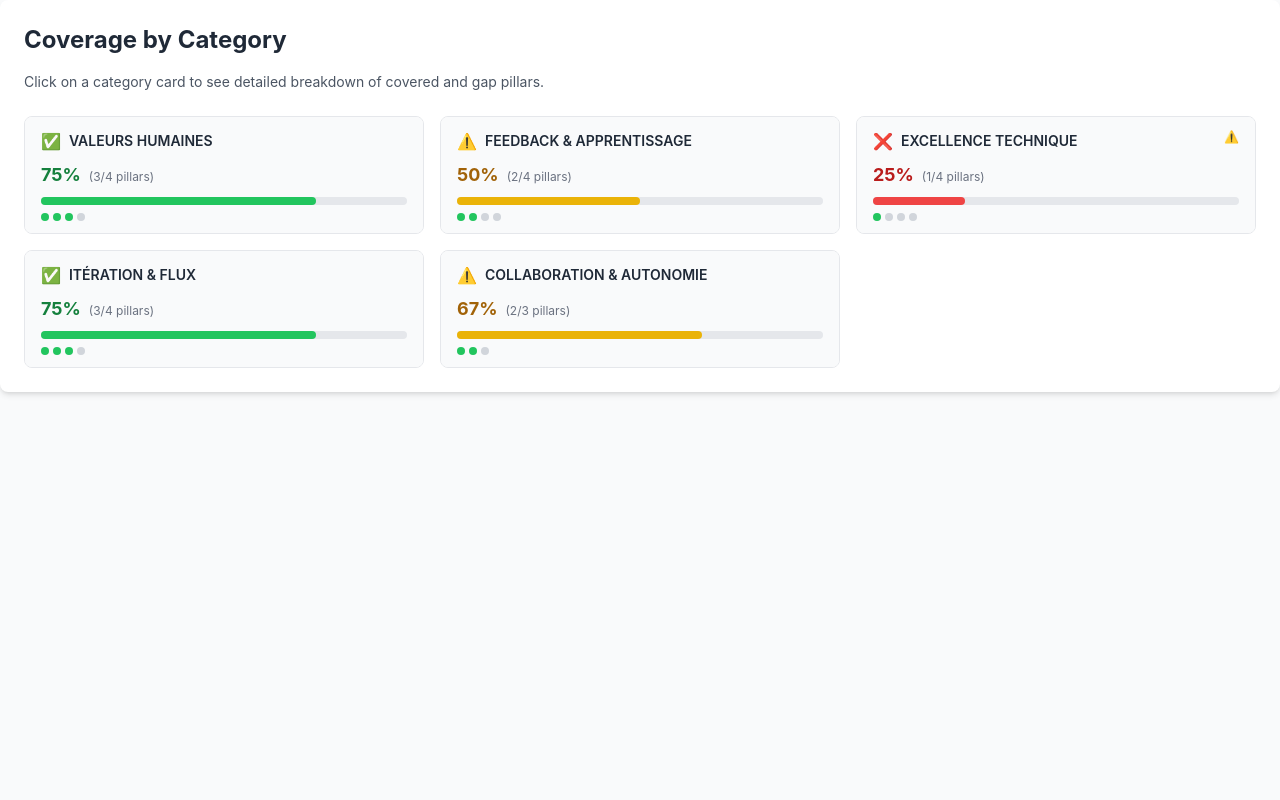
Test: CategoryCoverageBreakdown › displays warning badge for categories < 50%
Click the button "❌ EXCELLENCE TECHNIQUE ⚠️ 25%(1/4 pillars)" at (989, 140), box [857,117,1255,233]
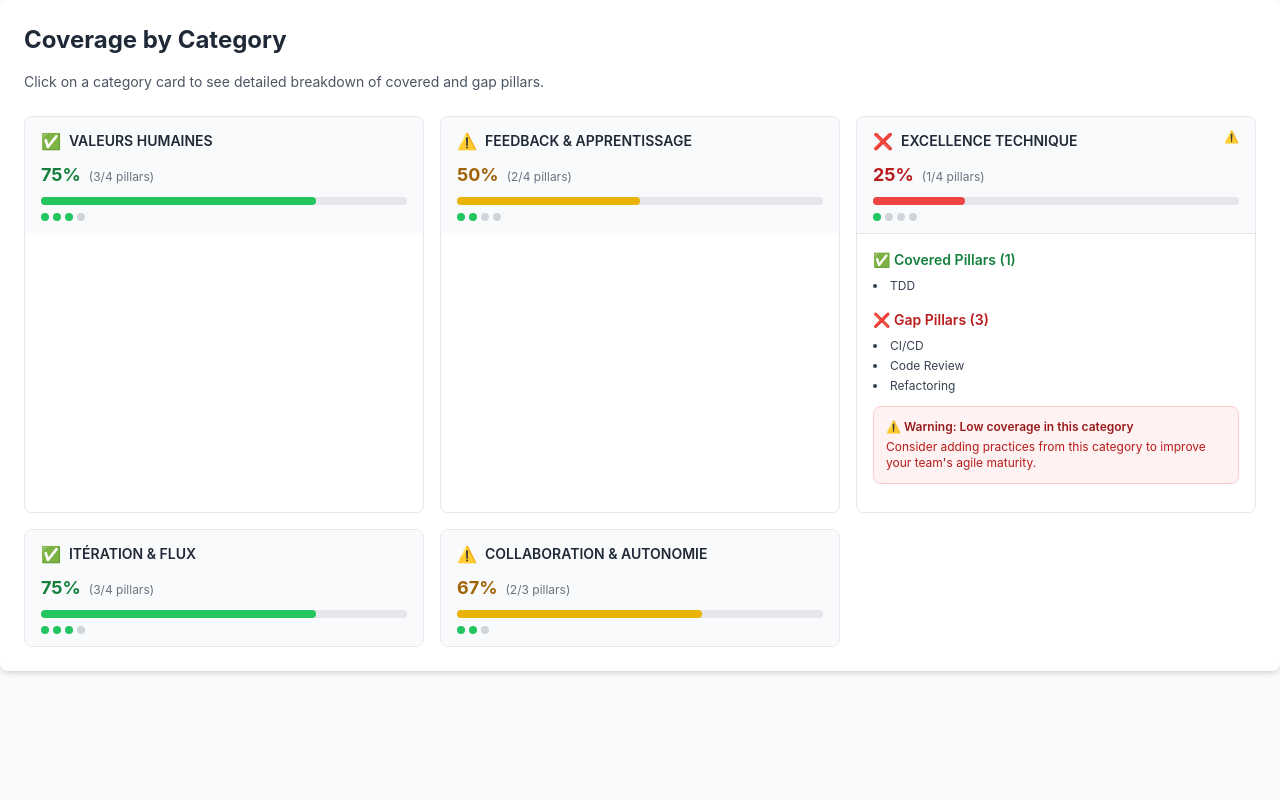
Result: the text "⚠️ Warning: Low coverage in this category" is shown at [886,419,1134,434]
Result: the text "Consider adding practices from this category" is shown at [886,439,1206,470]
